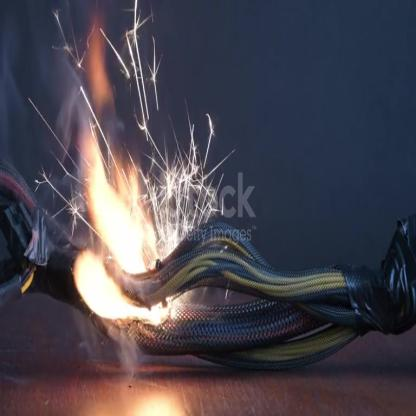fire: (77, 140, 219, 337)
smoke: (7, 6, 92, 294)
